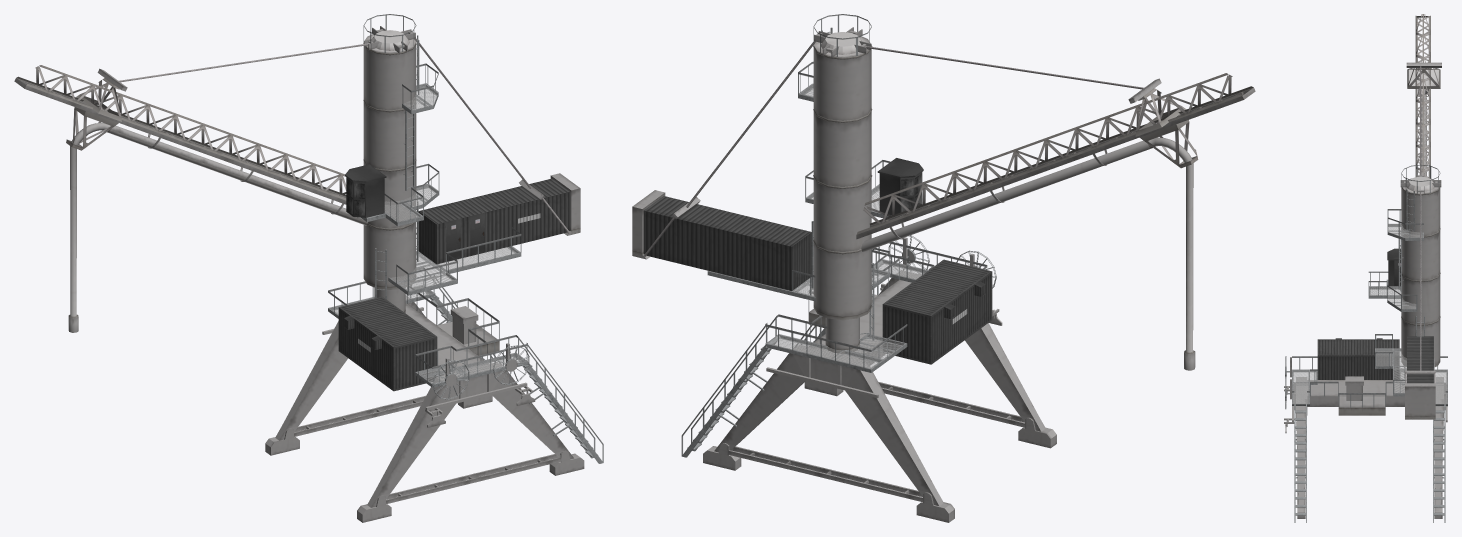
File: plant-crane.glb
3 views of the same model, side by side, from view 1: azimuth 30°, elevation 25°; view 2: azimuth 150°, elevation 25°; view 3: azimuth 270°, elevation 25° (orthographic). The views are drawn at different scales.
Parts seen in each view (by area): view 1: Object8933261; view 2: Object8933261; view 3: Object8933261.
Part boxes in pixels (x1=…): Object8933261: x1=14, y1=14, x2=603, y2=522; Object8933261: x1=632, y1=14, x2=1255, y2=522; Object8933261: x1=1284, y1=14, x2=1447, y2=522.
Bounding box in the file's own units: 33.32 × 26.36 × 11.57.
1 material, 1 textured.
